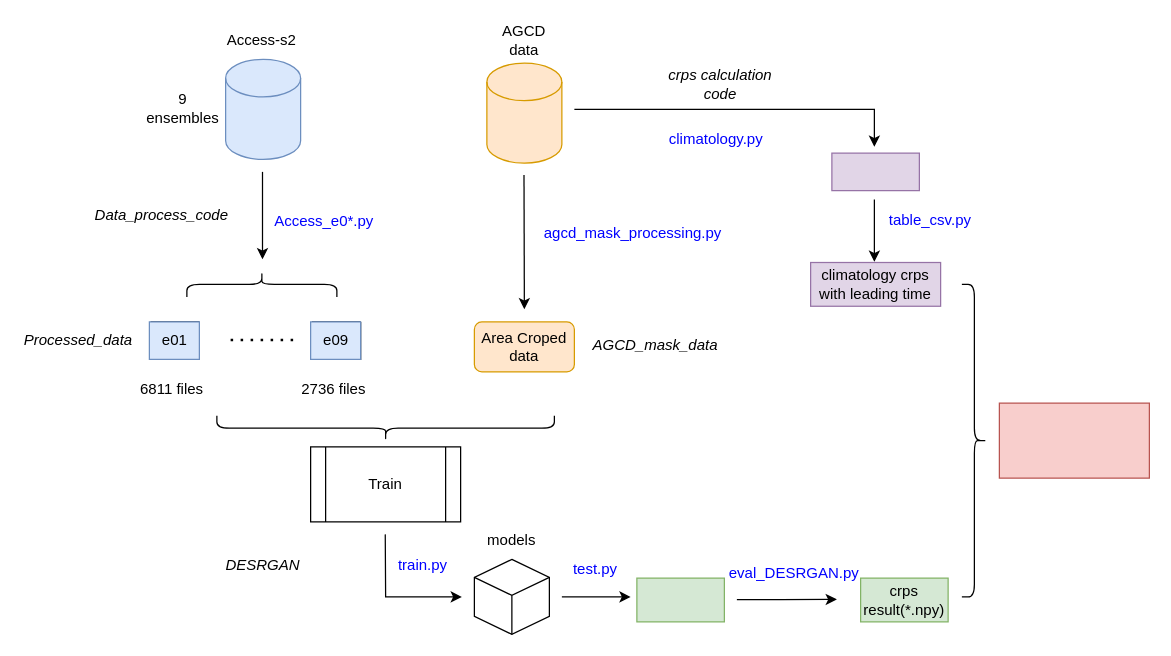
This 1171x656 diagram has some shape labels left out. Each missing label, with the centre of its shape:
"climatology cprs" goes at (x=875, y=171).
"CRPS_skill score" goes at (x=1073, y=440).
"Predictions" goes at (x=680, y=599).
